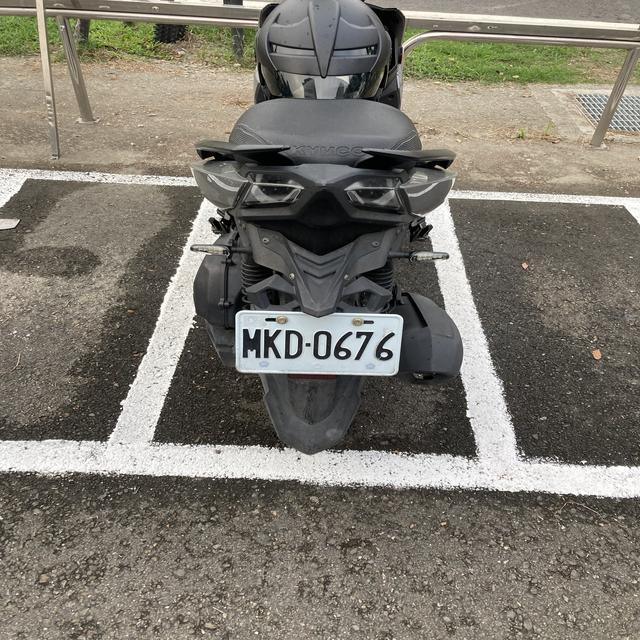license: (235, 312, 401, 375)
